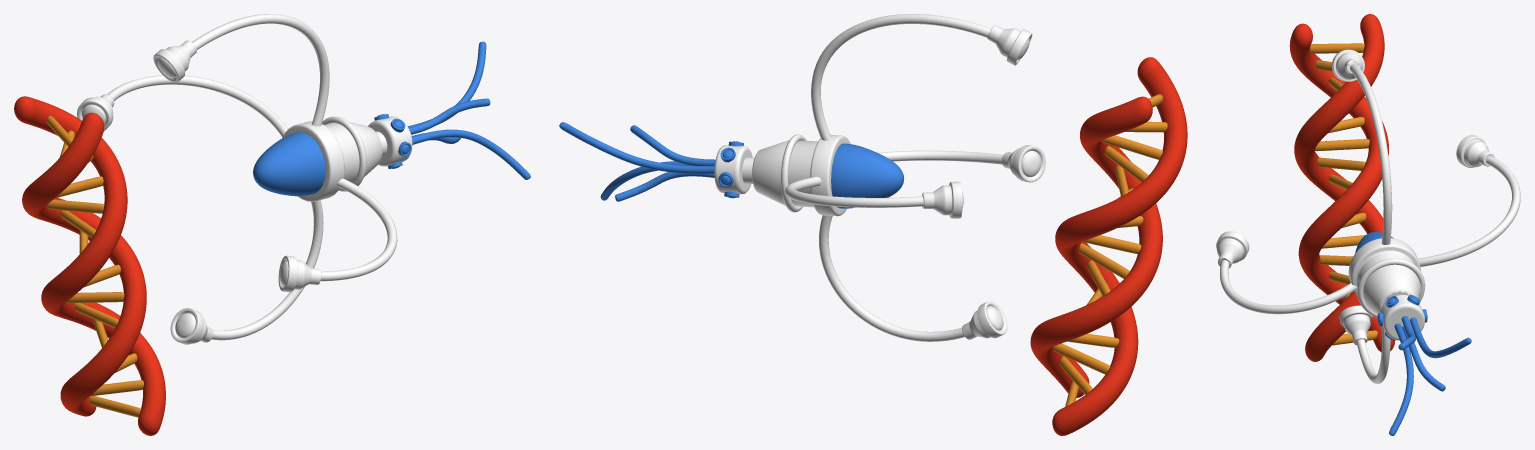
The model's file is nanobot-3d-animated-icon-923458244949.glb.
3 renders of one model, left to right at view 1: azimuth 30°, elevation 25°; view 2: azimuth 150°, elevation 25°; view 3: azimuth 270°, elevation 25°, orthographic. The views are drawn at different scales.
Visible parts, largest first — view 1: DNA.3, Sphere.058, Cylinder.158, NurbsPath.046, NurbsPath.050, NurbsPath.049, NurbsPath.048, Cylinder.164, Cylinder.162, Cylinder.165, NurbsPath.045, Cylinder.159 (+4 smaller); view 2: DNA.3, Cylinder.158, Sphere.058, NurbsPath.046, NurbsPath.048, NurbsPath.050, NurbsPath.043, NurbsPath.049, Cylinder.164, Cylinder.165, Cylinder.159, Cylinder.162 (+4 smaller); view 3: DNA.3, Cylinder.158, NurbsPath.046, NurbsPath.050, NurbsPath.049, Cylinder.159, Cylinder.166, Cylinder.165, Cylinder.164, NurbsPath.048, NurbsPath.045, NurbsCircle (+4 smaller).
Boxes of the visible parts, x1,y1,x2,y2 form: DNA.3: (14, 96, 165, 435); Sphere.058: (253, 132, 325, 196); Cylinder.158: (282, 121, 382, 201); NurbsPath.046: (192, 14, 329, 126); NurbsPath.050: (107, 75, 287, 137); NurbsPath.049: (320, 178, 397, 281); NurbsPath.048: (211, 200, 323, 340); Cylinder.164: (170, 308, 213, 344); Cylinder.162: (153, 40, 196, 82); Cylinder.165: (278, 255, 321, 292); NurbsPath.045: (412, 129, 530, 179); Cylinder.159: (368, 116, 412, 166); DNA.3: (1030, 57, 1187, 435); Cylinder.158: (752, 134, 850, 216); Sphere.058: (831, 143, 904, 208); NurbsPath.046: (811, 14, 991, 140); NurbsPath.048: (819, 215, 964, 341); NurbsPath.050: (785, 176, 923, 207); NurbsPath.043: (559, 122, 714, 173); NurbsPath.049: (877, 150, 1003, 164); Cylinder.164: (962, 301, 1007, 339); Cylinder.165: (1001, 145, 1045, 182); Cylinder.159: (714, 145, 752, 194); Cylinder.162: (987, 25, 1032, 65); DNA.3: (1289, 14, 1394, 361); Cylinder.158: (1348, 238, 1421, 315); NurbsPath.046: (1349, 64, 1392, 244); NurbsPath.050: (1418, 156, 1520, 266); NurbsPath.049: (1220, 260, 1356, 314); Cylinder.159: (1380, 294, 1425, 340); Cylinder.166: (1456, 135, 1494, 167); Cylinder.165: (1216, 231, 1249, 267); Cylinder.164: (1339, 305, 1372, 345); NurbsPath.048: (1356, 326, 1390, 383); NurbsPath.045: (1389, 323, 1413, 435); NurbsCircle: (1357, 258, 1425, 317).
Bounding box in the file's own units: 10.95 × 7.24 × 6.02.
